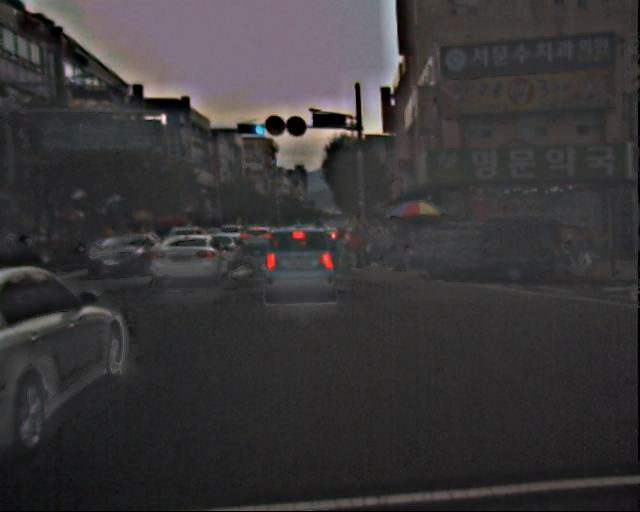person: (348, 224, 411, 271), (574, 219, 598, 277)
